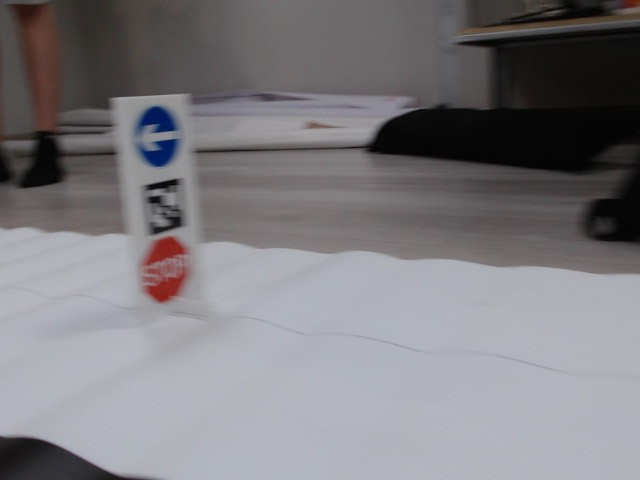Stop: (140, 237, 189, 301)
